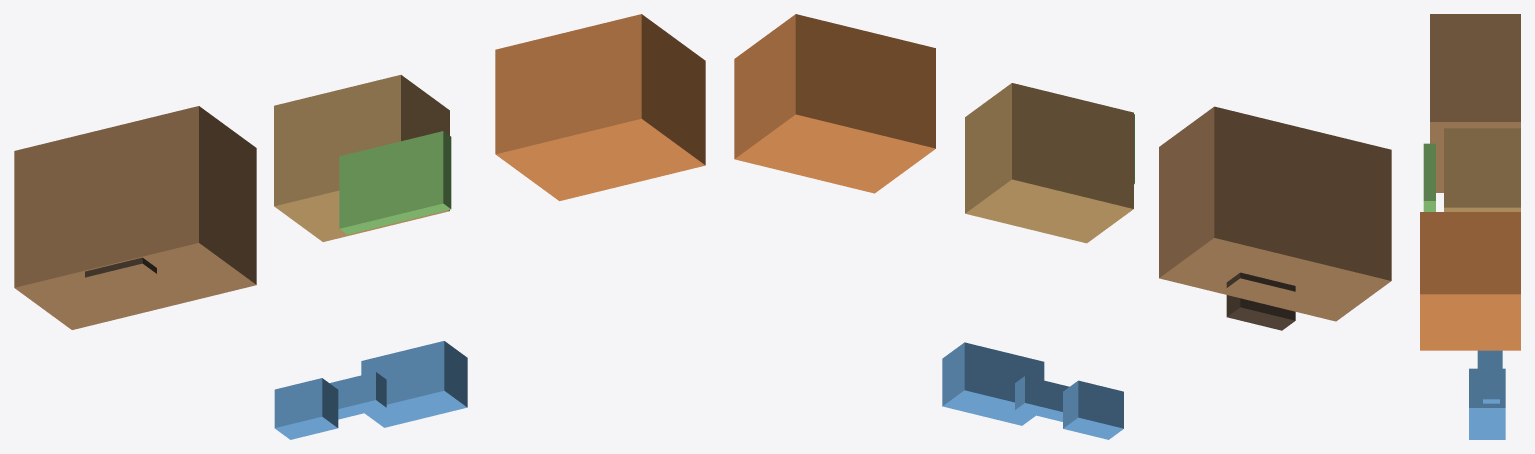
Rendered from colony_asset_examples.gltf.
The picture shows the model from 3 angles, left to right: view 1: azimuth 30°, elevation 25°; view 2: azimuth 150°, elevation 25°; view 3: azimuth 270°, elevation 25°; orthographic projection. The views are drawn at different scales.
Visible parts, largest first — view 1: Nest Mound, Biomass Bank, Brood Chamber, Leaf Canopy, Worker Gaster, Worker Head, Worker Thorax; view 2: Nest Mound, Biomass Bank, Brood Chamber, Worker Gaster, Worker Head, Nest Entrance, Worker Thorax; view 3: Biomass Bank, Nest Mound, Brood Chamber, Worker Gaster, Leaf Canopy, Worker Head, Worker Thorax.
Part boxes in pixels (x1=…): Nest Mound: x1=14, y1=106, x2=256, y2=329; Biomass Bank: x1=495, y1=14, x2=705, y2=201; Brood Chamber: x1=274, y1=75, x2=449, y2=241; Leaf Canopy: x1=339, y1=131, x2=451, y2=234; Worker Gaster: x1=361, y1=341, x2=467, y2=427; Worker Head: x1=274, y1=378, x2=338, y2=439; Worker Thorax: x1=329, y1=372, x2=386, y2=419; Nest Mound: x1=1159, y1=106, x2=1391, y2=321; Biomass Bank: x1=734, y1=14, x2=935, y2=193; Brood Chamber: x1=965, y1=83, x2=1133, y2=243; Worker Gaster: x1=942, y1=342, x2=1044, y2=425; Worker Head: x1=1063, y1=380, x2=1123, y2=439; Nest Entrance: x1=1226, y1=272, x2=1295, y2=330; Worker Thorax: x1=1015, y1=376, x2=1069, y2=421; Biomass Bank: x1=1420, y1=212, x2=1520, y2=350; Nest Mound: x1=1430, y1=14, x2=1520, y2=192; Brood Chamber: x1=1444, y1=128, x2=1520, y2=211; Worker Gaster: x1=1469, y1=368, x2=1505, y2=439; Leaf Canopy: x1=1423, y1=143, x2=1435, y2=211; Worker Head: x1=1477, y1=350, x2=1502, y2=368; Worker Thorax: x1=1483, y1=362, x2=1499, y2=403.
Size of the model in its own units: 8.15 by 4.16 by 1.44.
